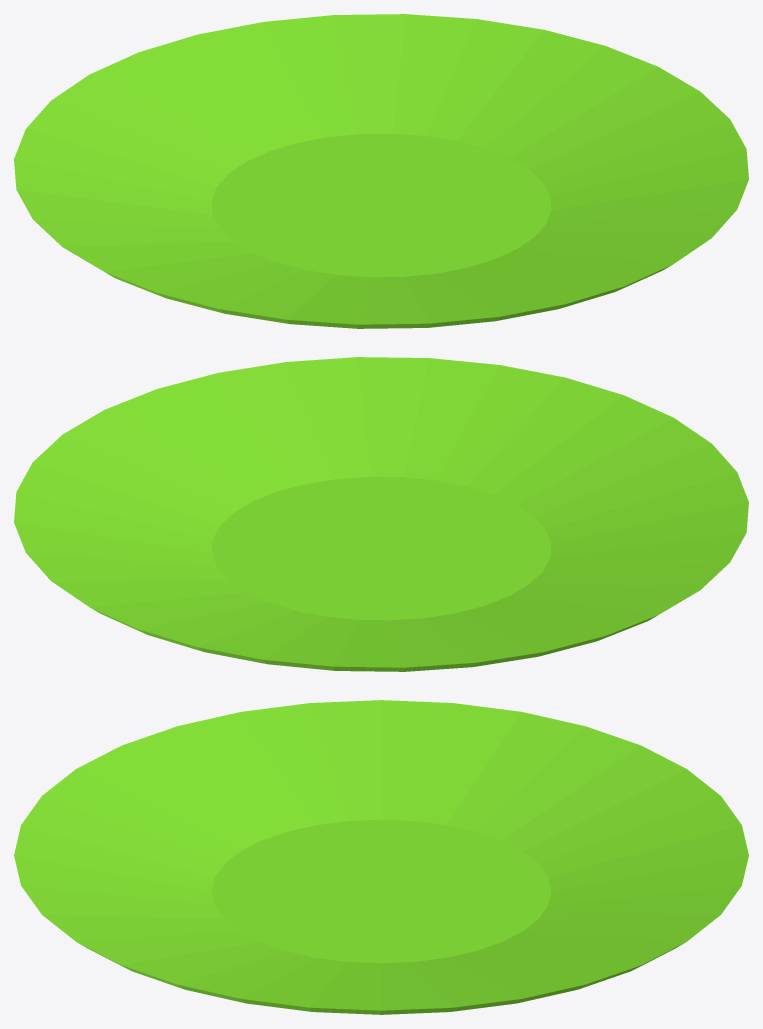
The model's file is plate.glb.
3 views of the same model, one above another, from view 1: azimuth 30°, elevation 25°; view 2: azimuth 150°, elevation 25°; view 3: azimuth 270°, elevation 25° (orthographic).
Visible parts, largest first — view 1: Cylinder; view 2: Cylinder; view 3: Cylinder.
Part boxes in pixels (box(x1,y1,x2,y2)): Cylinder: box(14, 14, 748, 328); Cylinder: box(14, 357, 748, 671); Cylinder: box(14, 700, 748, 1014).
Size of the model in its own units: 7.46 by 0.5152 by 7.46.
